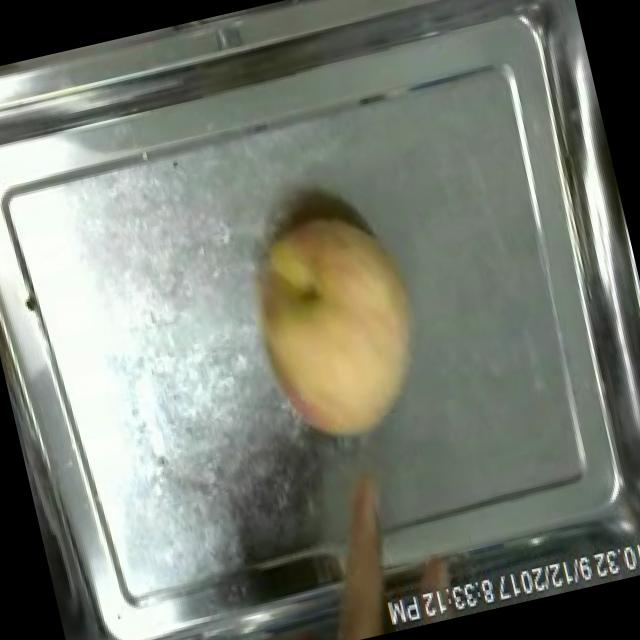Fruit: (223, 190, 450, 460)
